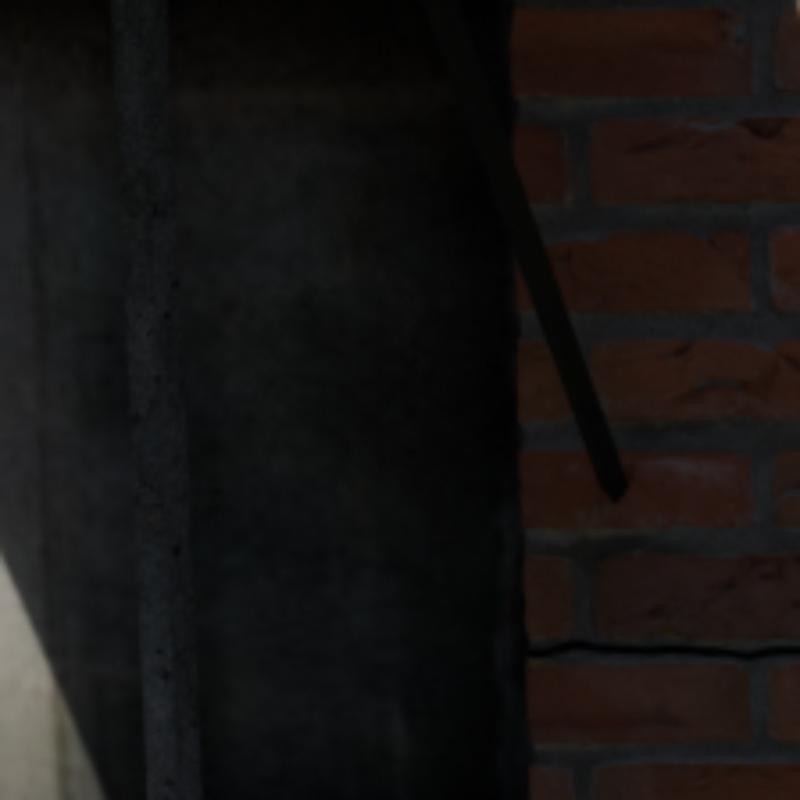pothole: (529, 643, 796, 657)
